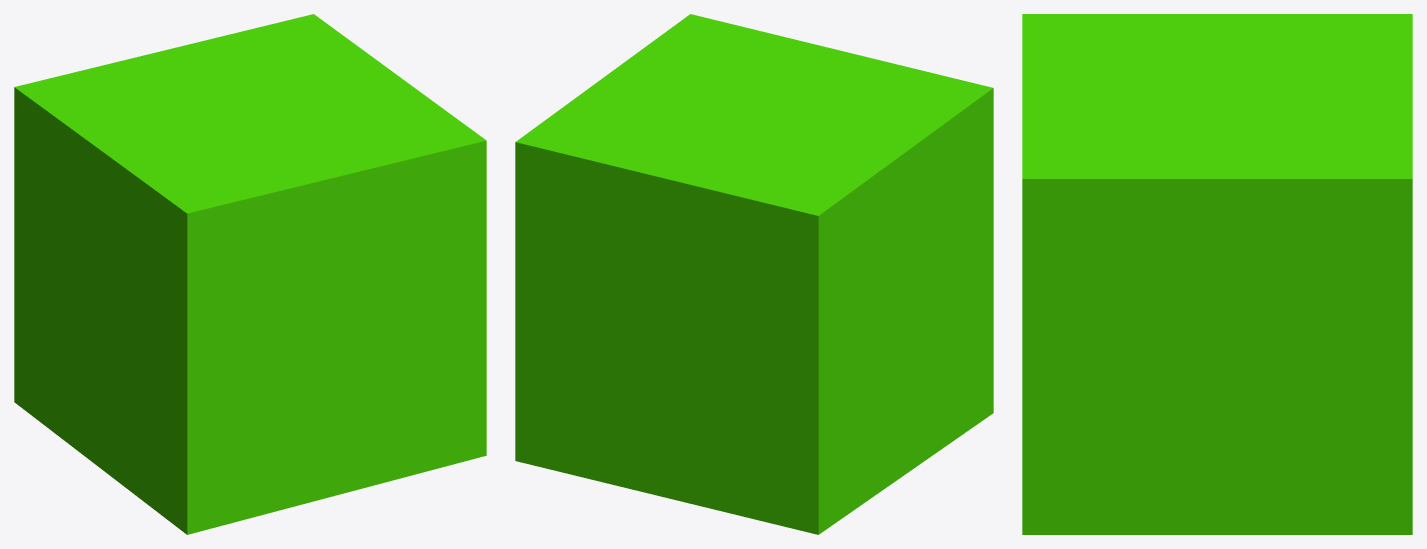
Rendered from Playergym29.fbx.
The picture shows the model from 3 angles, left to right: view 1: azimuth 30°, elevation 25°; view 2: azimuth 150°, elevation 25°; view 3: azimuth 270°, elevation 25°; orthographic projection. The views are drawn at different scales.
Visible parts, largest first — view 1: Cube.028; view 2: Cube.028; view 3: Cube.028.
Boxes of the visible parts, x1=… form: Cube.028: x1=14, y1=14, x2=486, y2=534; Cube.028: x1=515, y1=14, x2=993, y2=534; Cube.028: x1=1022, y1=14, x2=1412, y2=534.
Size of the model in its own units: 100 by 103 by 100.
